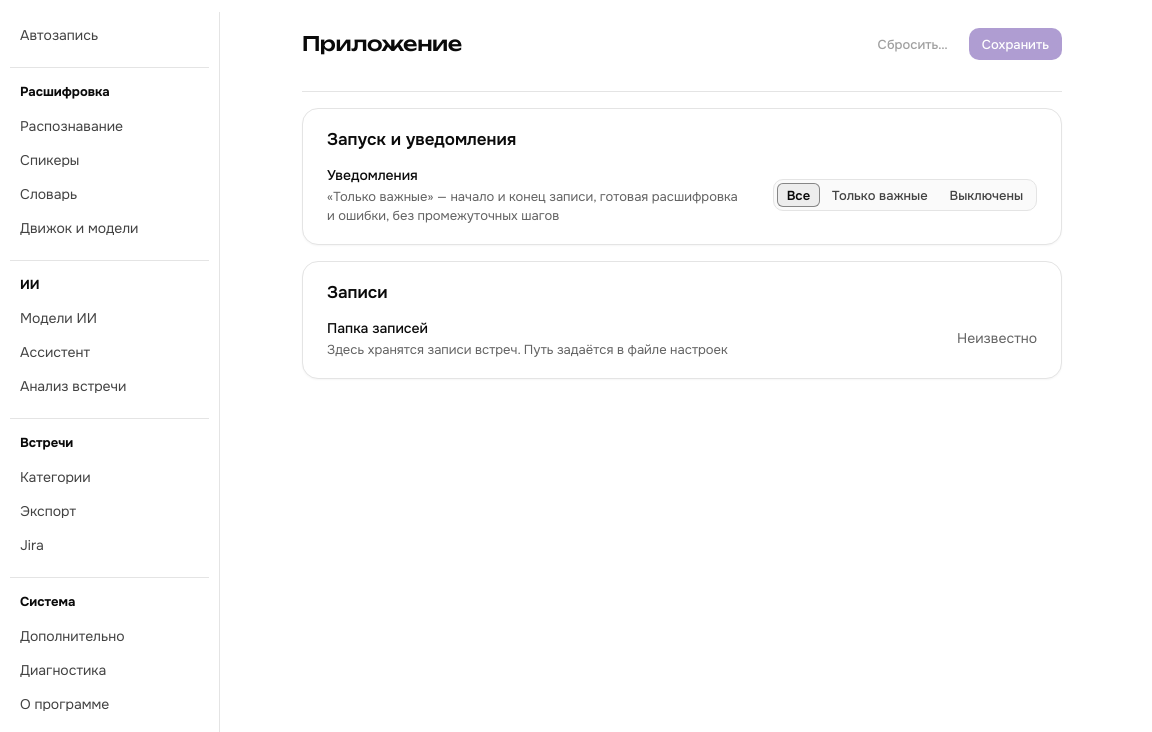
Test: «О программе» показывает путь к данным
The width and height of the screenshot is (1152, 732).
(page scrolled)
Click the button "О программе".
click(110, 704)  # box [10,688,209,720]
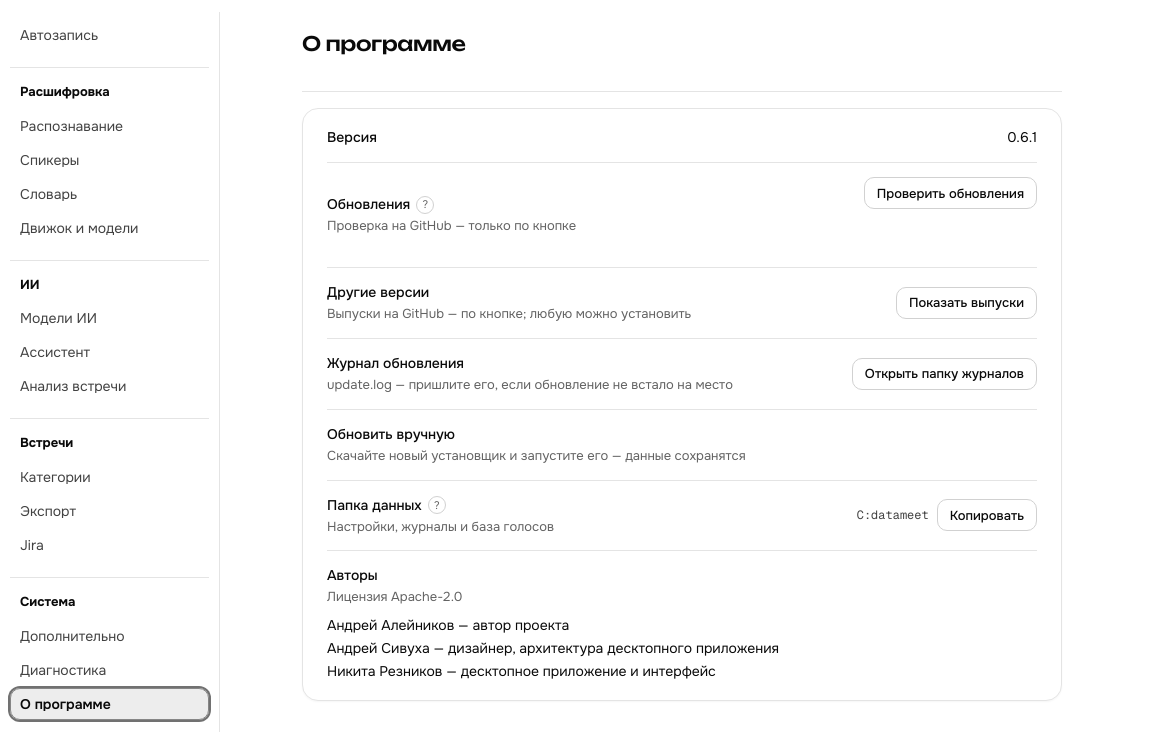
Result: the number of buttons "Копировать" is 1 at [937,500,1037,532]
